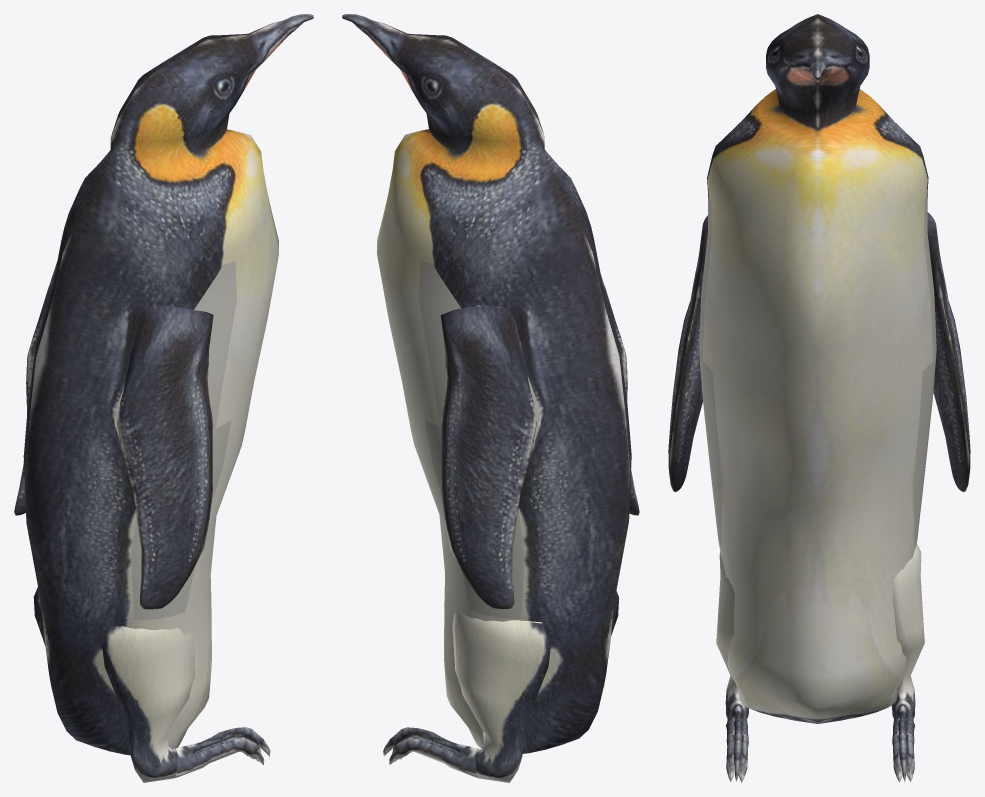
Rendered from penguin.obj.
The picture shows the model from 3 angles, left to right: view 1: azimuth 30°, elevation 25°; view 2: azimuth 150°, elevation 25°; view 3: azimuth 270°, elevation 25°; orthographic projection. The views are drawn at different scales.
Visible parts, largest first — view 1: Mesh3 Component_4_1 Component_9_1 King_Penguin__Aptenodytes_pata, Mesh1 Component_2_1 Component_9_1 King_Penguin__Aptenodytes_pata, Mesh5 Component_7_2 Component_9_1 King_Penguin__Aptenodytes_pata, Mesh2 Component_2_2 Component_9_1 King_Penguin__Aptenodytes_pata; view 2: Mesh3 Component_4_1 Component_9_1 King_Penguin__Aptenodytes_pata, Mesh2 Component_2_2 Component_9_1 King_Penguin__Aptenodytes_pata, Mesh4 Component_7_1 Component_9_1 King_Penguin__Aptenodytes_pata, Mesh1 Component_2_1 Component_9_1 King_Penguin__Aptenodytes_pata; view 3: Mesh3 Component_4_1 Component_9_1 King_Penguin__Aptenodytes_pata, Mesh2 Component_2_2 Component_9_1 King_Penguin__Aptenodytes_pata, Mesh1 Component_2_1 Component_9_1 King_Penguin__Aptenodytes_pata, Mesh4 Component_7_1 Component_9_1 King_Penguin__Aptenodytes_pata, Mesh5 Component_7_2 Component_9_1 King_Penguin__Aptenodytes_pata.
Part boxes in pixels (x1,y1,x2,y2): Mesh3 Component_4_1 Component_9_1 King_Penguin__Aptenodytes_pata: (23,14,313,755); Mesh1 Component_2_1 Component_9_1 King_Penguin__Aptenodytes_pata: (117,305,213,609); Mesh5 Component_7_2 Component_9_1 King_Penguin__Aptenodytes_pata: (102,625,270,782); Mesh2 Component_2_2 Component_9_1 King_Penguin__Aptenodytes_pata: (14,263,56,515); Mesh3 Component_4_1 Component_9_1 King_Penguin__Aptenodytes_pata: (342,14,631,753); Mesh2 Component_2_2 Component_9_1 King_Penguin__Aptenodytes_pata: (440,305,536,608); Mesh4 Component_7_1 Component_9_1 King_Penguin__Aptenodytes_pata: (383,612,550,782); Mesh1 Component_2_1 Component_9_1 King_Penguin__Aptenodytes_pata: (600,274,639,515); Mesh3 Component_4_1 Component_9_1 King_Penguin__Aptenodytes_pata: (699,14,936,723); Mesh2 Component_2_2 Component_9_1 King_Penguin__Aptenodytes_pata: (927,212,970,491); Mesh1 Component_2_1 Component_9_1 King_Penguin__Aptenodytes_pata: (668,215,707,491); Mesh4 Component_7_1 Component_9_1 King_Penguin__Aptenodytes_pata: (891,543,924,782); Mesh5 Component_7_2 Component_9_1 King_Penguin__Aptenodytes_pata: (716,552,748,782).
Size of the model in its own units: 0.1298 by 0.302 by 0.109.
2 materials, 1 textured.
